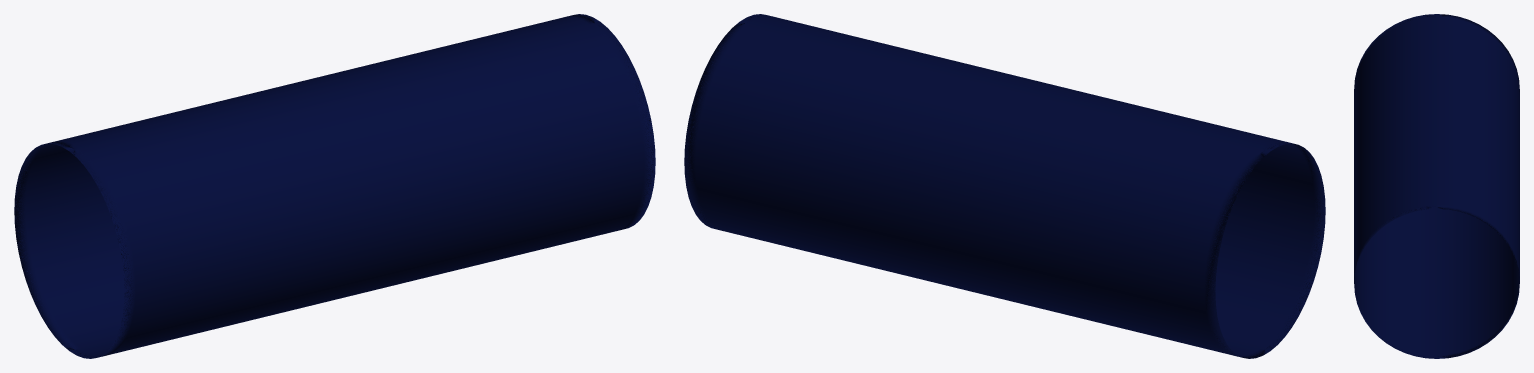
The model's file is pipeStraightWtexture.fbx.
3 renders of one model, left to right at view 1: azimuth 30°, elevation 25°; view 2: azimuth 150°, elevation 25°; view 3: azimuth 270°, elevation 25°, orthographic. The views are drawn at different scales.
Visible parts, largest first — view 1: NurbsPath; view 2: NurbsPath; view 3: NurbsPath.
Boxes of the visible parts, x1,y1,x2,y2 form: NurbsPath: (14,14,655,358); NurbsPath: (684,14,1325,358); NurbsPath: (1354,14,1519,358).
Size of the model in its own units: 34.79 by 12.5 by 12.5.
